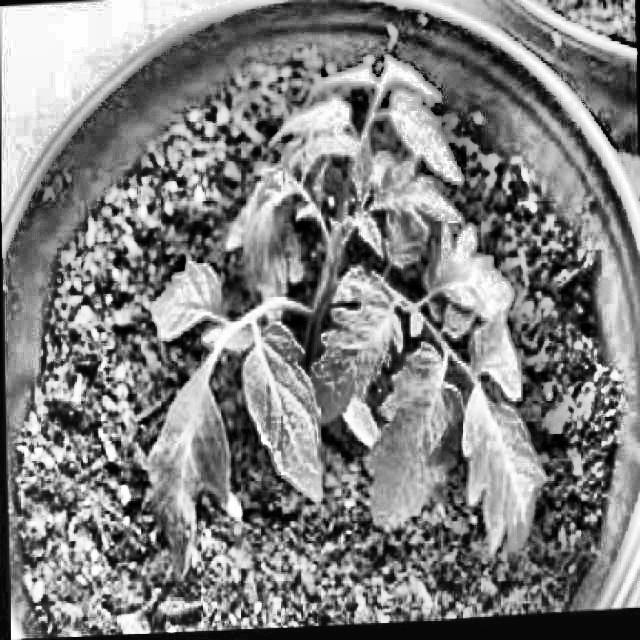plants: (100, 29, 578, 598)
